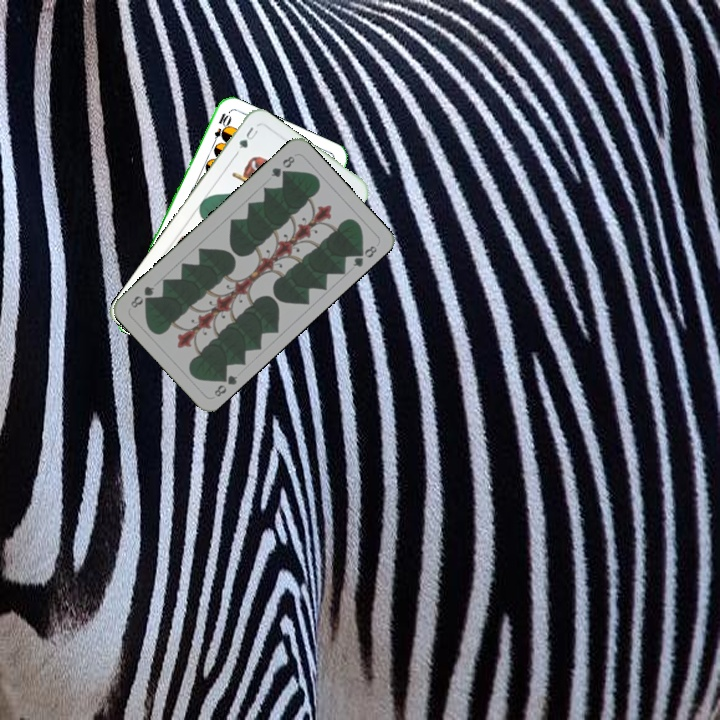E10: (208, 109, 232, 149)
G8: (210, 369, 240, 399), (267, 152, 298, 180)
GU: (231, 123, 261, 157)
